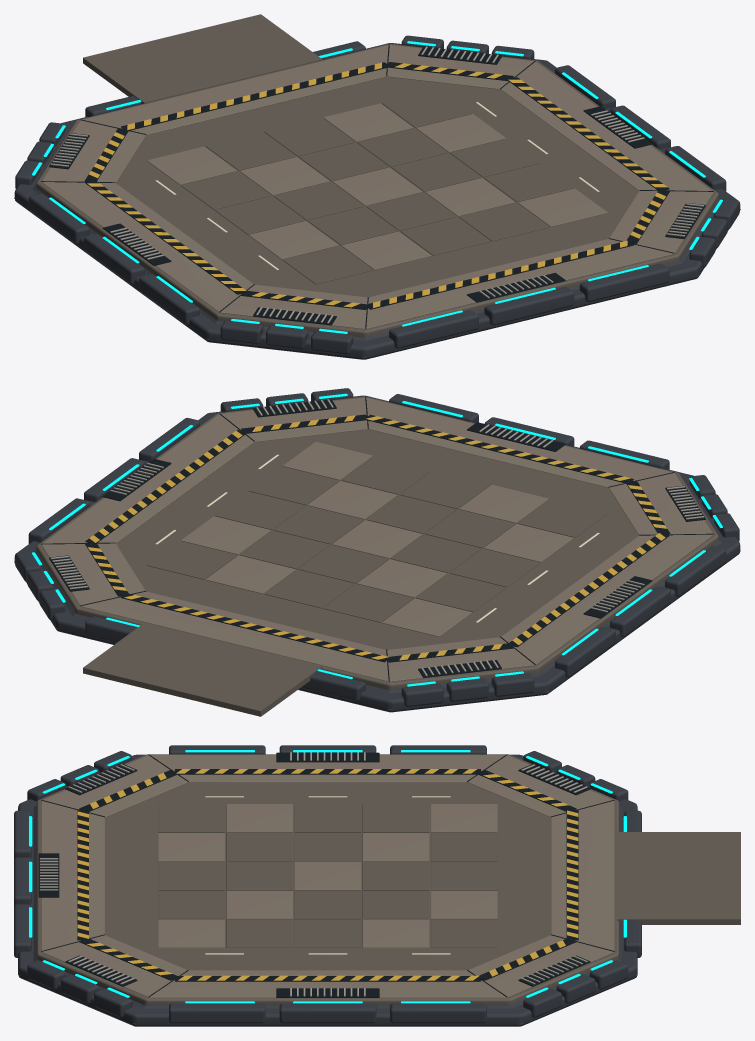
Rendered from deck-mars.glb.
3 views of the same model, one above another, from view 1: azimuth 30°, elevation 25°; view 2: azimuth 150°, elevation 25°; view 3: azimuth 270°, elevation 25° (orthographic).
Visible parts, largest first — view 1: MARTE_DECK_02, MARTE_DECK_03, MARTE_DECK_05, MARTE_DECK_01, MARTE_DECK_06, MARTE_DECK_00, MARTE_DECK_07; view 2: MARTE_DECK_02, MARTE_DECK_03, MARTE_DECK_05, MARTE_DECK_01, MARTE_DECK_06, MARTE_DECK_00, MARTE_DECK_07; view 3: MARTE_DECK_02, MARTE_DECK_03, MARTE_DECK_05, MARTE_DECK_01, MARTE_DECK_06, MARTE_DECK_00, MARTE_DECK_07, MARTE_DECK_04.
Part boxes in pixels (box(x1,y1,x2,y2)): MARTE_DECK_02: box(36, 14, 718, 337); MARTE_DECK_03: box(41, 45, 713, 329); MARTE_DECK_05: box(14, 35, 740, 359); MARTE_DECK_01: box(41, 44, 713, 328); MARTE_DECK_06: box(87, 62, 667, 307); MARTE_DECK_00: box(50, 46, 704, 323); MARTE_DECK_07: box(32, 41, 722, 333); MARTE_DECK_02: box(36, 396, 718, 716); MARTE_DECK_03: box(41, 397, 713, 681); MARTE_DECK_05: box(14, 388, 740, 712); MARTE_DECK_01: box(41, 396, 713, 681); MARTE_DECK_06: box(87, 415, 666, 660); MARTE_DECK_00: box(50, 399, 704, 675); MARTE_DECK_07: box(32, 393, 722, 686); MARTE_DECK_02: box(36, 754, 740, 1005); MARTE_DECK_03: box(41, 755, 614, 997); MARTE_DECK_05: box(14, 745, 641, 1026); MARTE_DECK_01: box(38, 752, 614, 997); MARTE_DECK_06: box(77, 769, 578, 980); MARTE_DECK_00: box(39, 752, 587, 996); MARTE_DECK_07: box(29, 750, 626, 1003); MARTE_DECK_04: box(205, 796, 450, 954).
Bounding box in the file's own units: 12.16 × 0.495 × 14.08.
